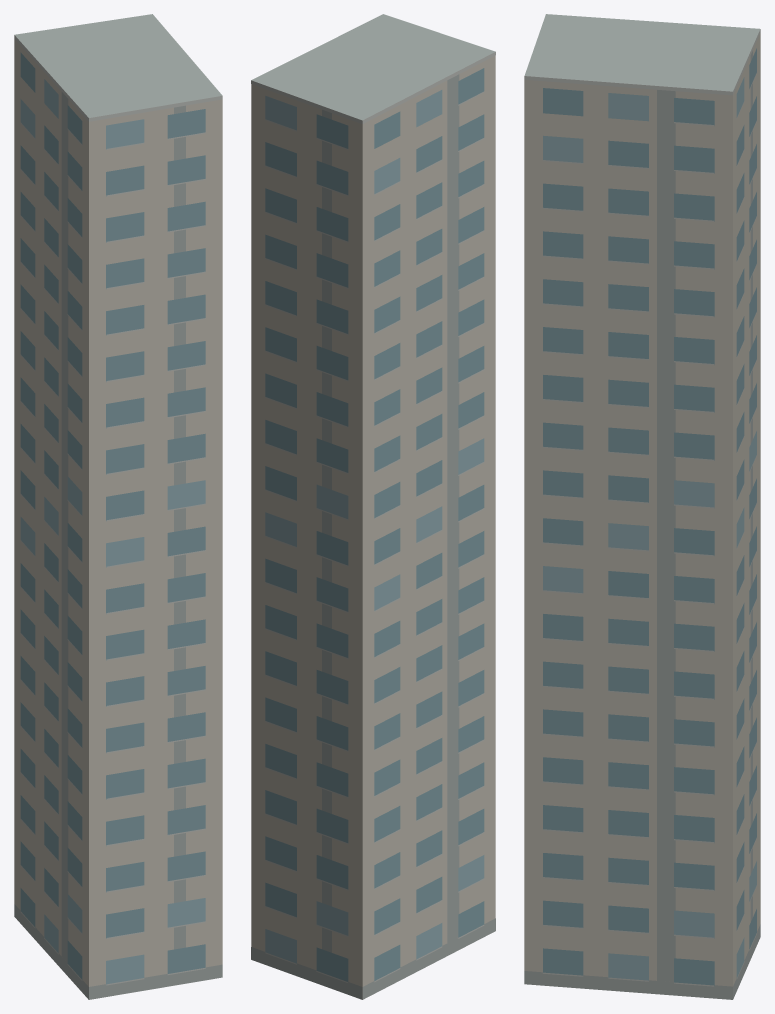
File: survey-upis-32589467.glb
The picture shows the model from 3 angles, left to right: view 1: azimuth 30°, elevation 25°; view 2: azimuth 150°, elevation 25°; view 3: azimuth 270°, elevation 25°; orthographic projection. The views are drawn at different scales.
Parts seen in each view (by area): view 1: survey-upis-32589467.tmp; view 2: survey-upis-32589467.tmp; view 3: survey-upis-32589467.tmp.
Boxes of the visible parts, <box> form: survey-upis-32589467.tmp: <box>14,14,222,999</box>; survey-upis-32589467.tmp: <box>251,14,495,999</box>; survey-upis-32589467.tmp: <box>524,14,760,999</box>.
Bounding box in the file's own units: 10.64 × 57.95 × 13.66.
